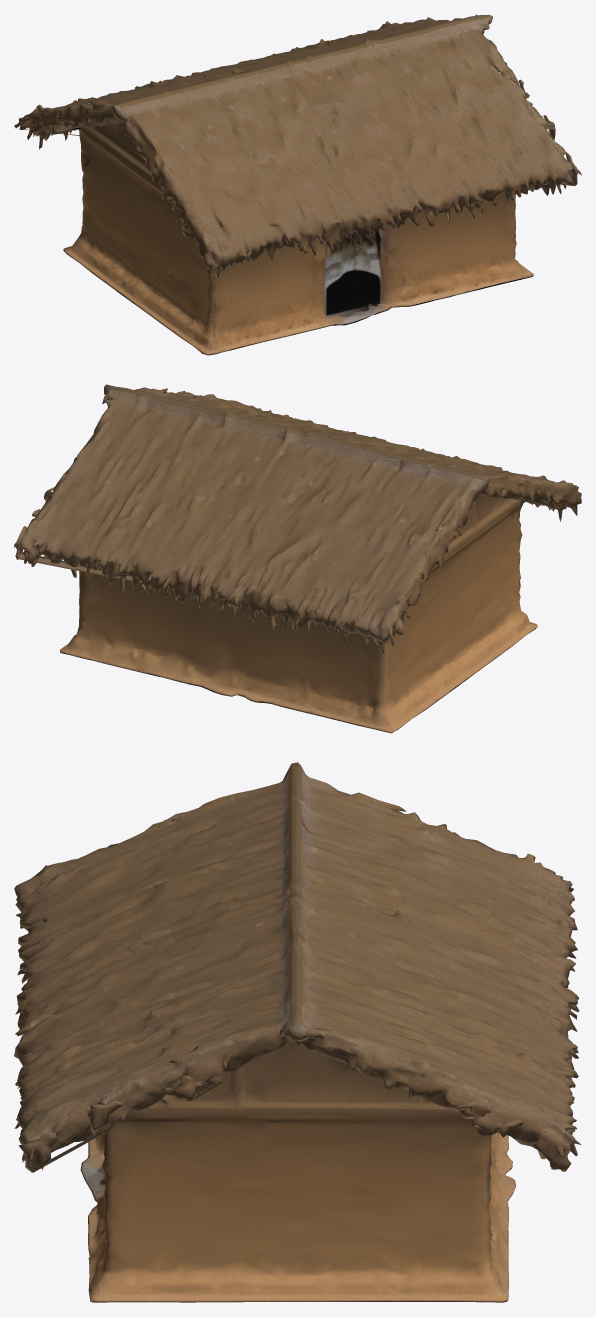
File: cuadra.glb
The picture shows the model from 3 angles, top to bottom: view 1: azimuth 30°, elevation 25°; view 2: azimuth 150°, elevation 25°; view 3: azimuth 270°, elevation 25°; orthographic projection. The views are drawn at different scales.
Visible parts, largest first — view 1: temp_mesh.ply; view 2: temp_mesh.ply; view 3: temp_mesh.ply.
Part boxes in pixels (bbox=[...]): temp_mesh.ply: bbox=[14, 14, 581, 355]; temp_mesh.ply: bbox=[14, 384, 581, 733]; temp_mesh.ply: bbox=[14, 762, 580, 1302].
Size of the model in its own units: 7 by 3.63 by 6.21.
Materials: 1 (1 with a texture image).
